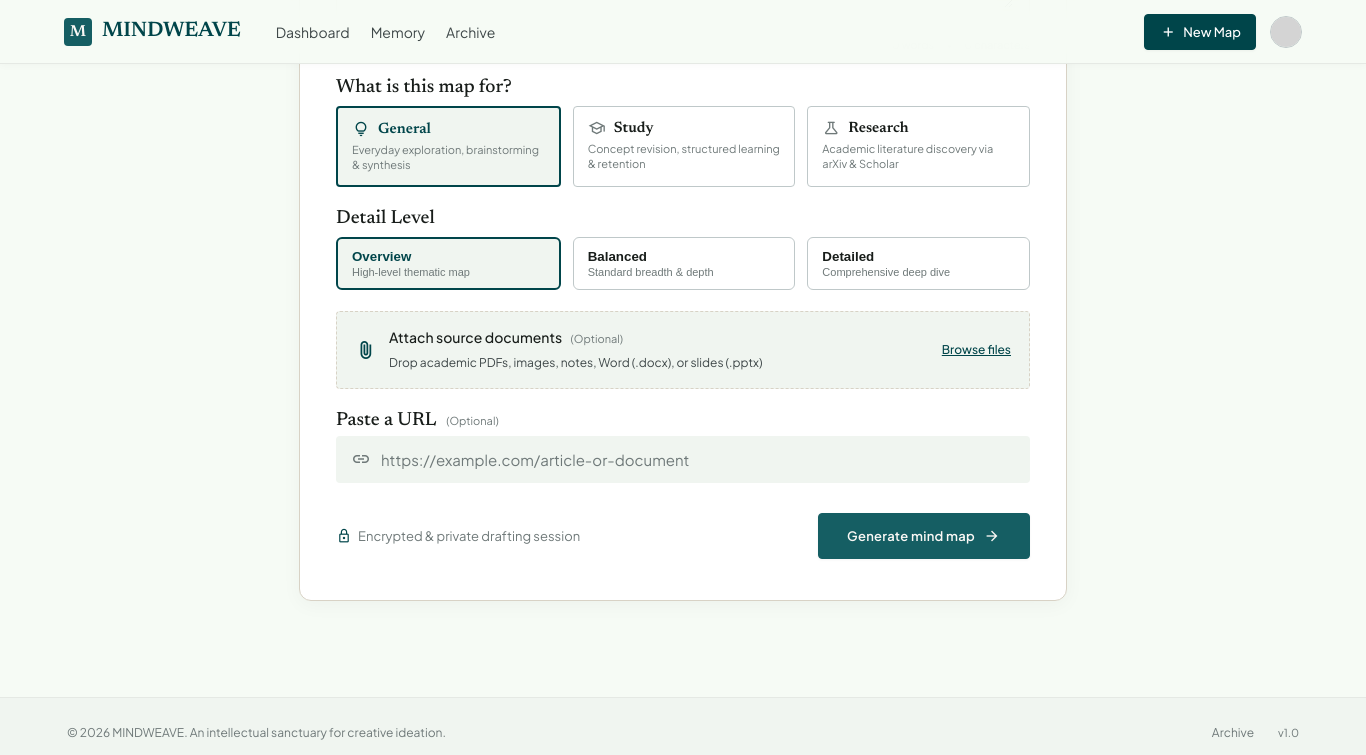
S3-FE4: Upload UI for New Types (DOCX, PPTX, Seed URL) › Per-URL Validation & Inline Error Messaging › clears URL error when valid URL is typed
Later steps or results of the test are not shown.
(page scrolled)
Step 1. Type "bad-url" into the field labelled "Paste a URL (Optional)" → (698,459), box [381,437,1015,482]
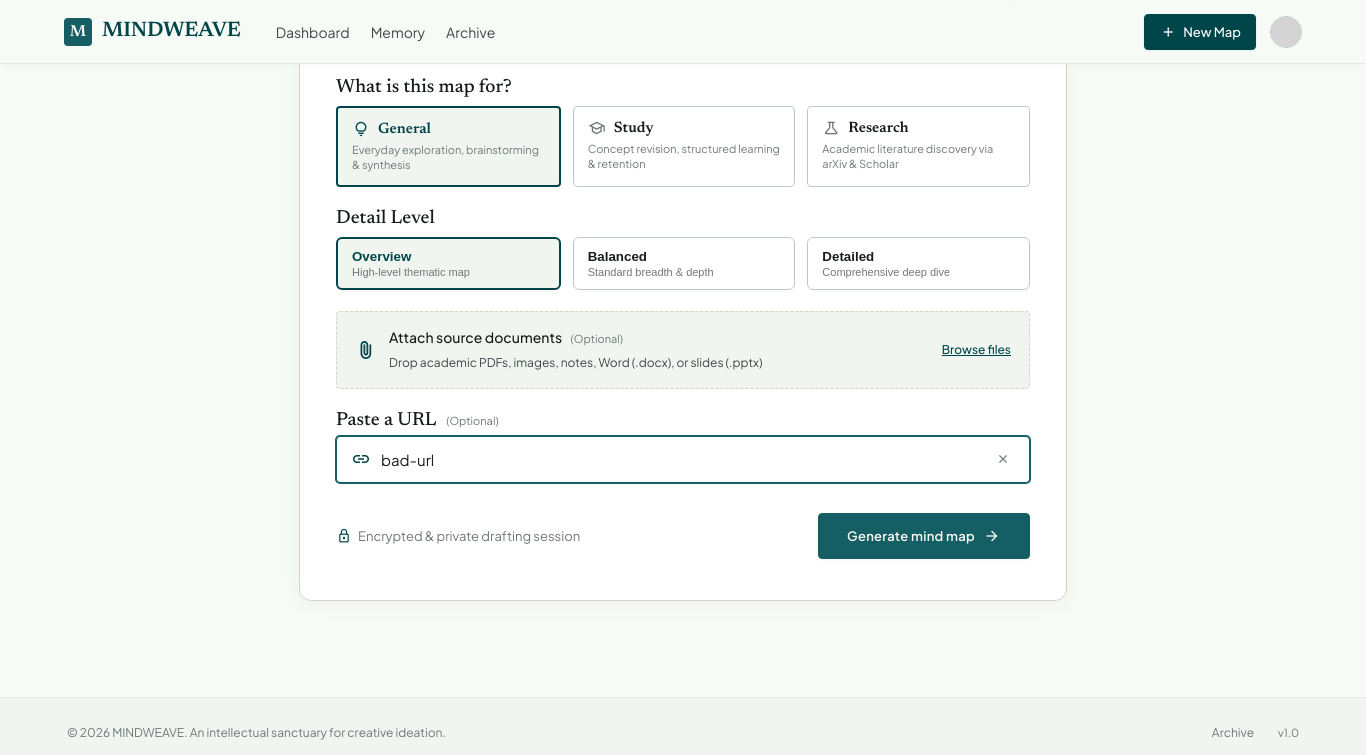
Step 2. Leave the field labelled "Paste a URL (Optional)", box [381,437,981,482]
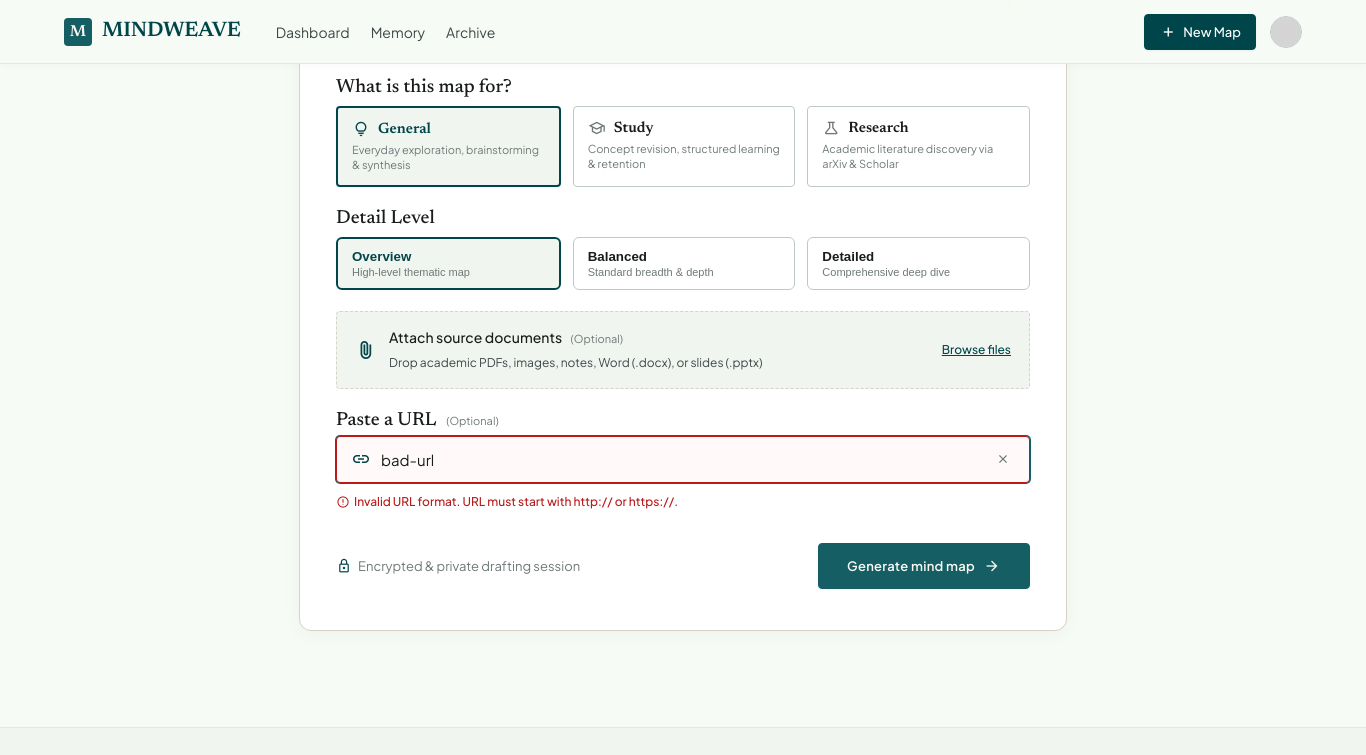
Expected: the message "Invalid URL format. URL must start with http:// or https://." is shown, [336,494,678,510]
